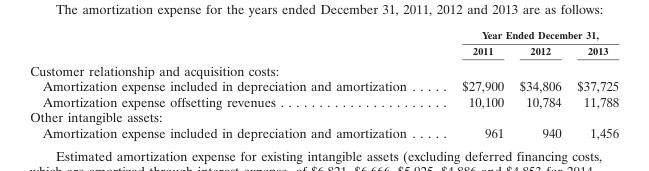table: (29, 28, 618, 139)
table column: (29, 28, 433, 139), (433, 28, 511, 139), (511, 28, 568, 139), (568, 28, 618, 139)
table column header: (29, 28, 618, 59)
table projected row header: (29, 59, 618, 77), (29, 108, 618, 124)
table row: (29, 59, 618, 77), (29, 42, 618, 59), (29, 77, 618, 93), (29, 108, 618, 124), (29, 93, 618, 108), (29, 124, 618, 139), (29, 28, 618, 42)
table spanning cell: (433, 28, 618, 42)
